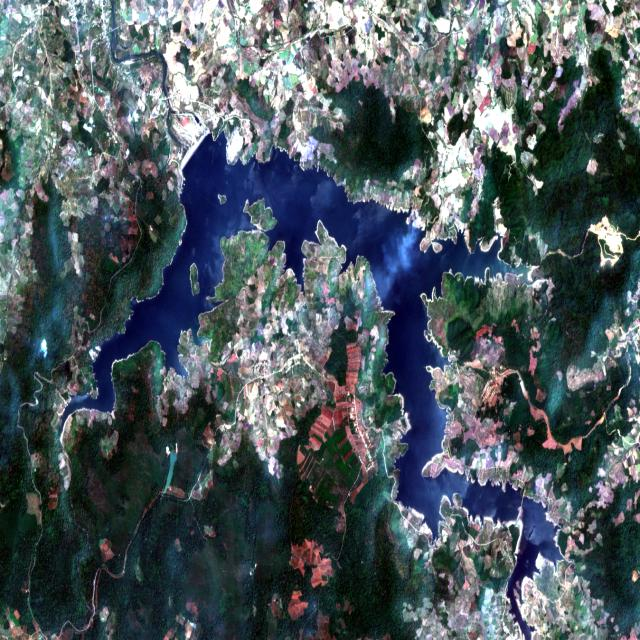bard_land: (189, 263, 200, 296), (217, 194, 227, 205)
river: (60, 132, 562, 640)
